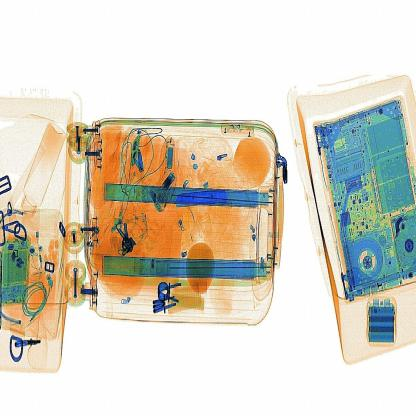pliers: (170, 178, 236, 214)
